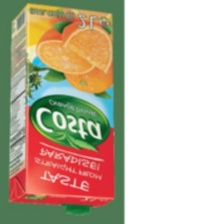carton: (5, 0, 118, 218)
